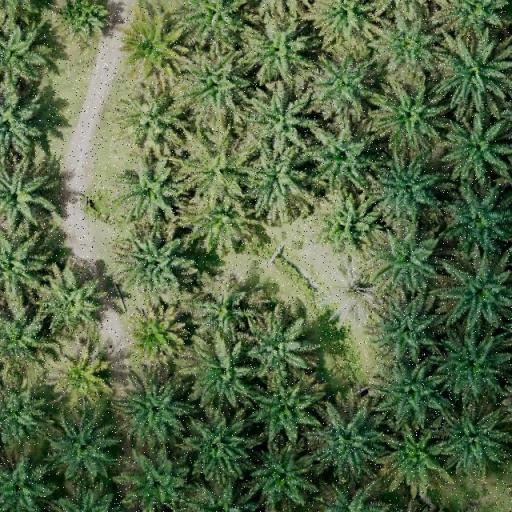Ganoderma: (128, 26, 174, 68), (54, 358, 98, 400), (134, 318, 175, 357)
